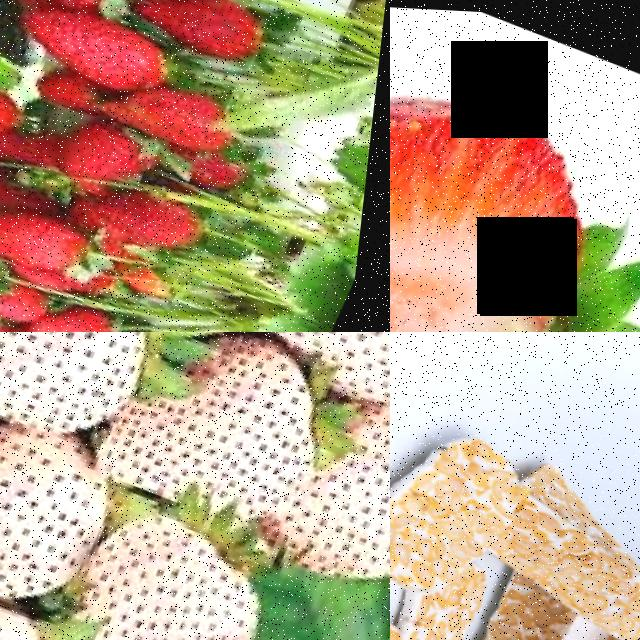strawberry: (390, 6, 640, 332), (136, 332, 362, 541), (49, 496, 301, 640), (0, 398, 138, 618), (291, 382, 390, 603), (0, 332, 187, 448), (11, 0, 170, 93), (93, 172, 224, 258), (0, 187, 112, 283), (137, 73, 253, 158), (152, 0, 279, 64), (38, 289, 127, 332), (0, 55, 42, 140)
tempeh: (390, 405, 544, 609), (480, 459, 640, 640), (462, 584, 601, 640)
